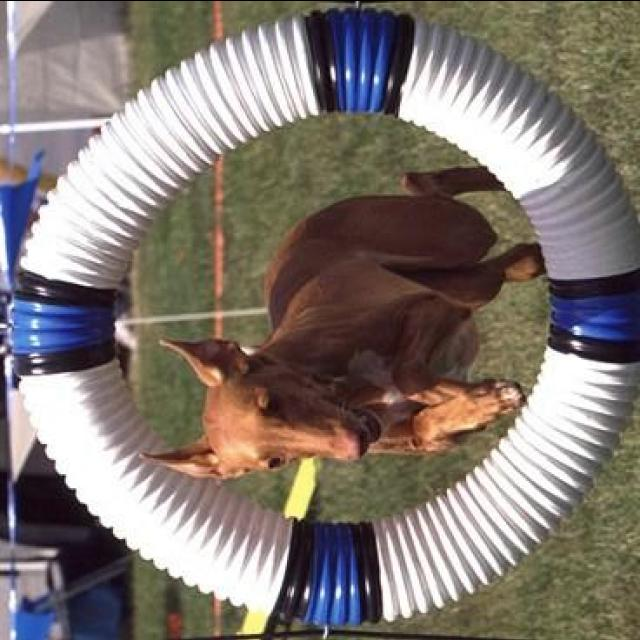rhodesian_ridgeback: (132, 167, 544, 485)
